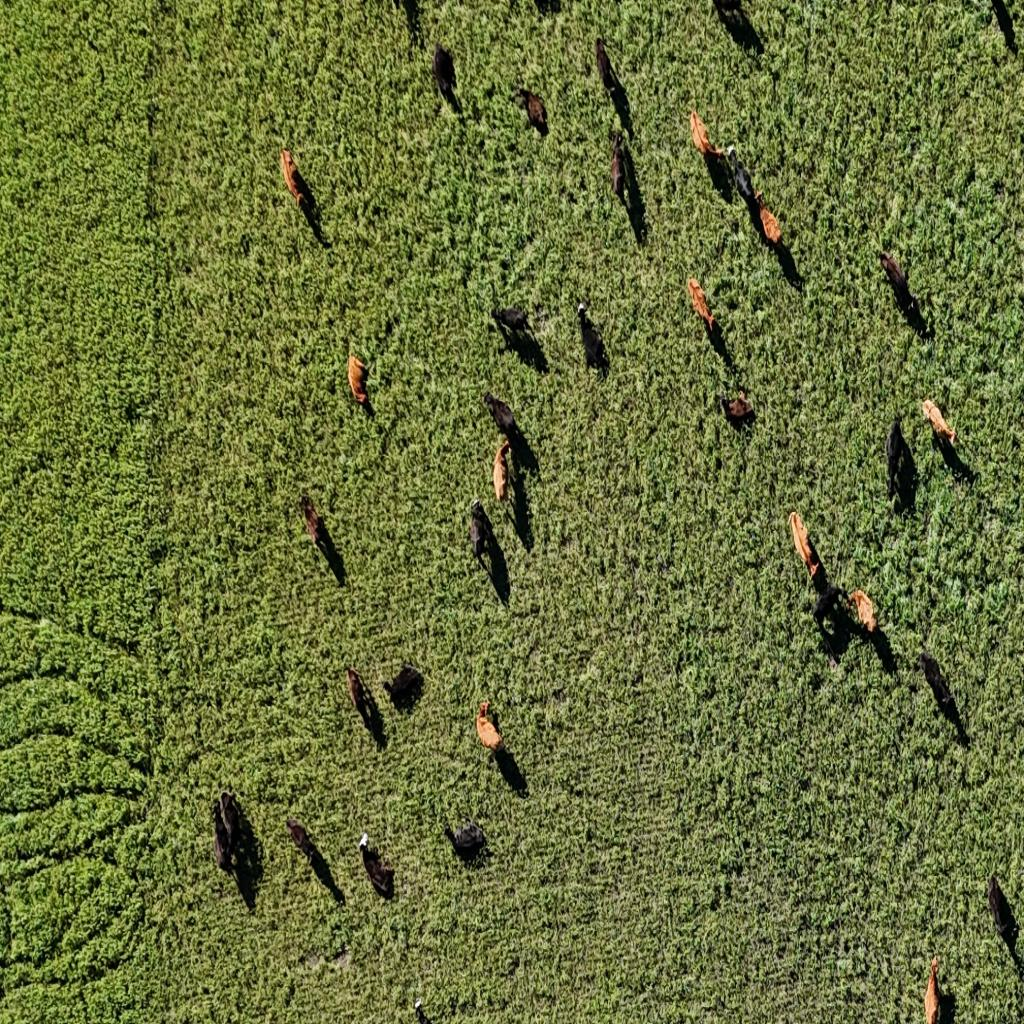cow: (919, 654, 961, 727), (788, 510, 823, 588), (880, 251, 920, 318), (358, 830, 394, 901), (986, 874, 1017, 956), (276, 144, 312, 212), (482, 389, 522, 447), (346, 667, 378, 738), (576, 300, 607, 372), (886, 420, 914, 498), (444, 819, 487, 866), (383, 662, 423, 708), (726, 146, 756, 207), (688, 276, 718, 335), (286, 816, 318, 869), (690, 111, 722, 164), (921, 397, 957, 444), (492, 306, 532, 346), (212, 802, 233, 875), (432, 43, 456, 105), (514, 88, 546, 134), (476, 701, 503, 755), (755, 193, 782, 247), (469, 498, 490, 567), (718, 389, 755, 427), (595, 36, 617, 98), (848, 588, 877, 633), (812, 585, 842, 627), (609, 132, 626, 204), (299, 494, 322, 546), (348, 352, 370, 406), (924, 956, 941, 1024), (493, 439, 510, 503)
